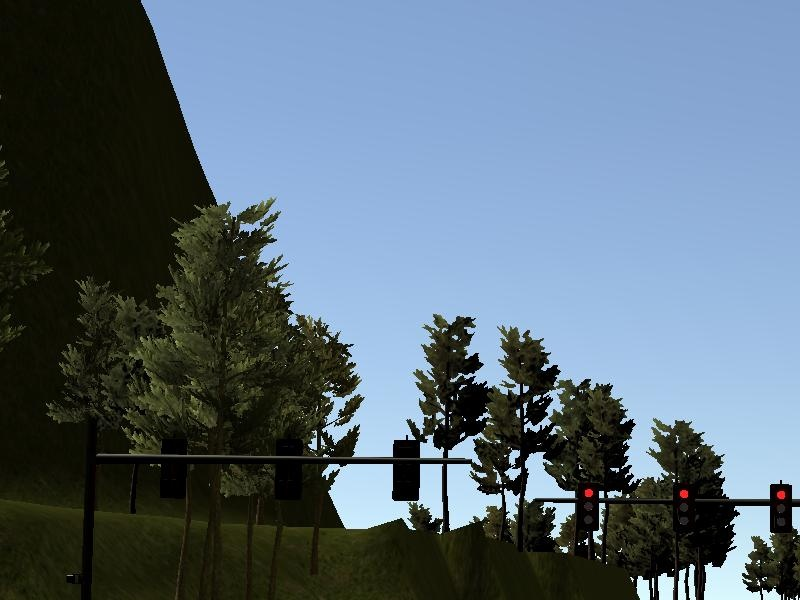red: (770, 484, 793, 533), (675, 485, 695, 533), (580, 486, 600, 530)
